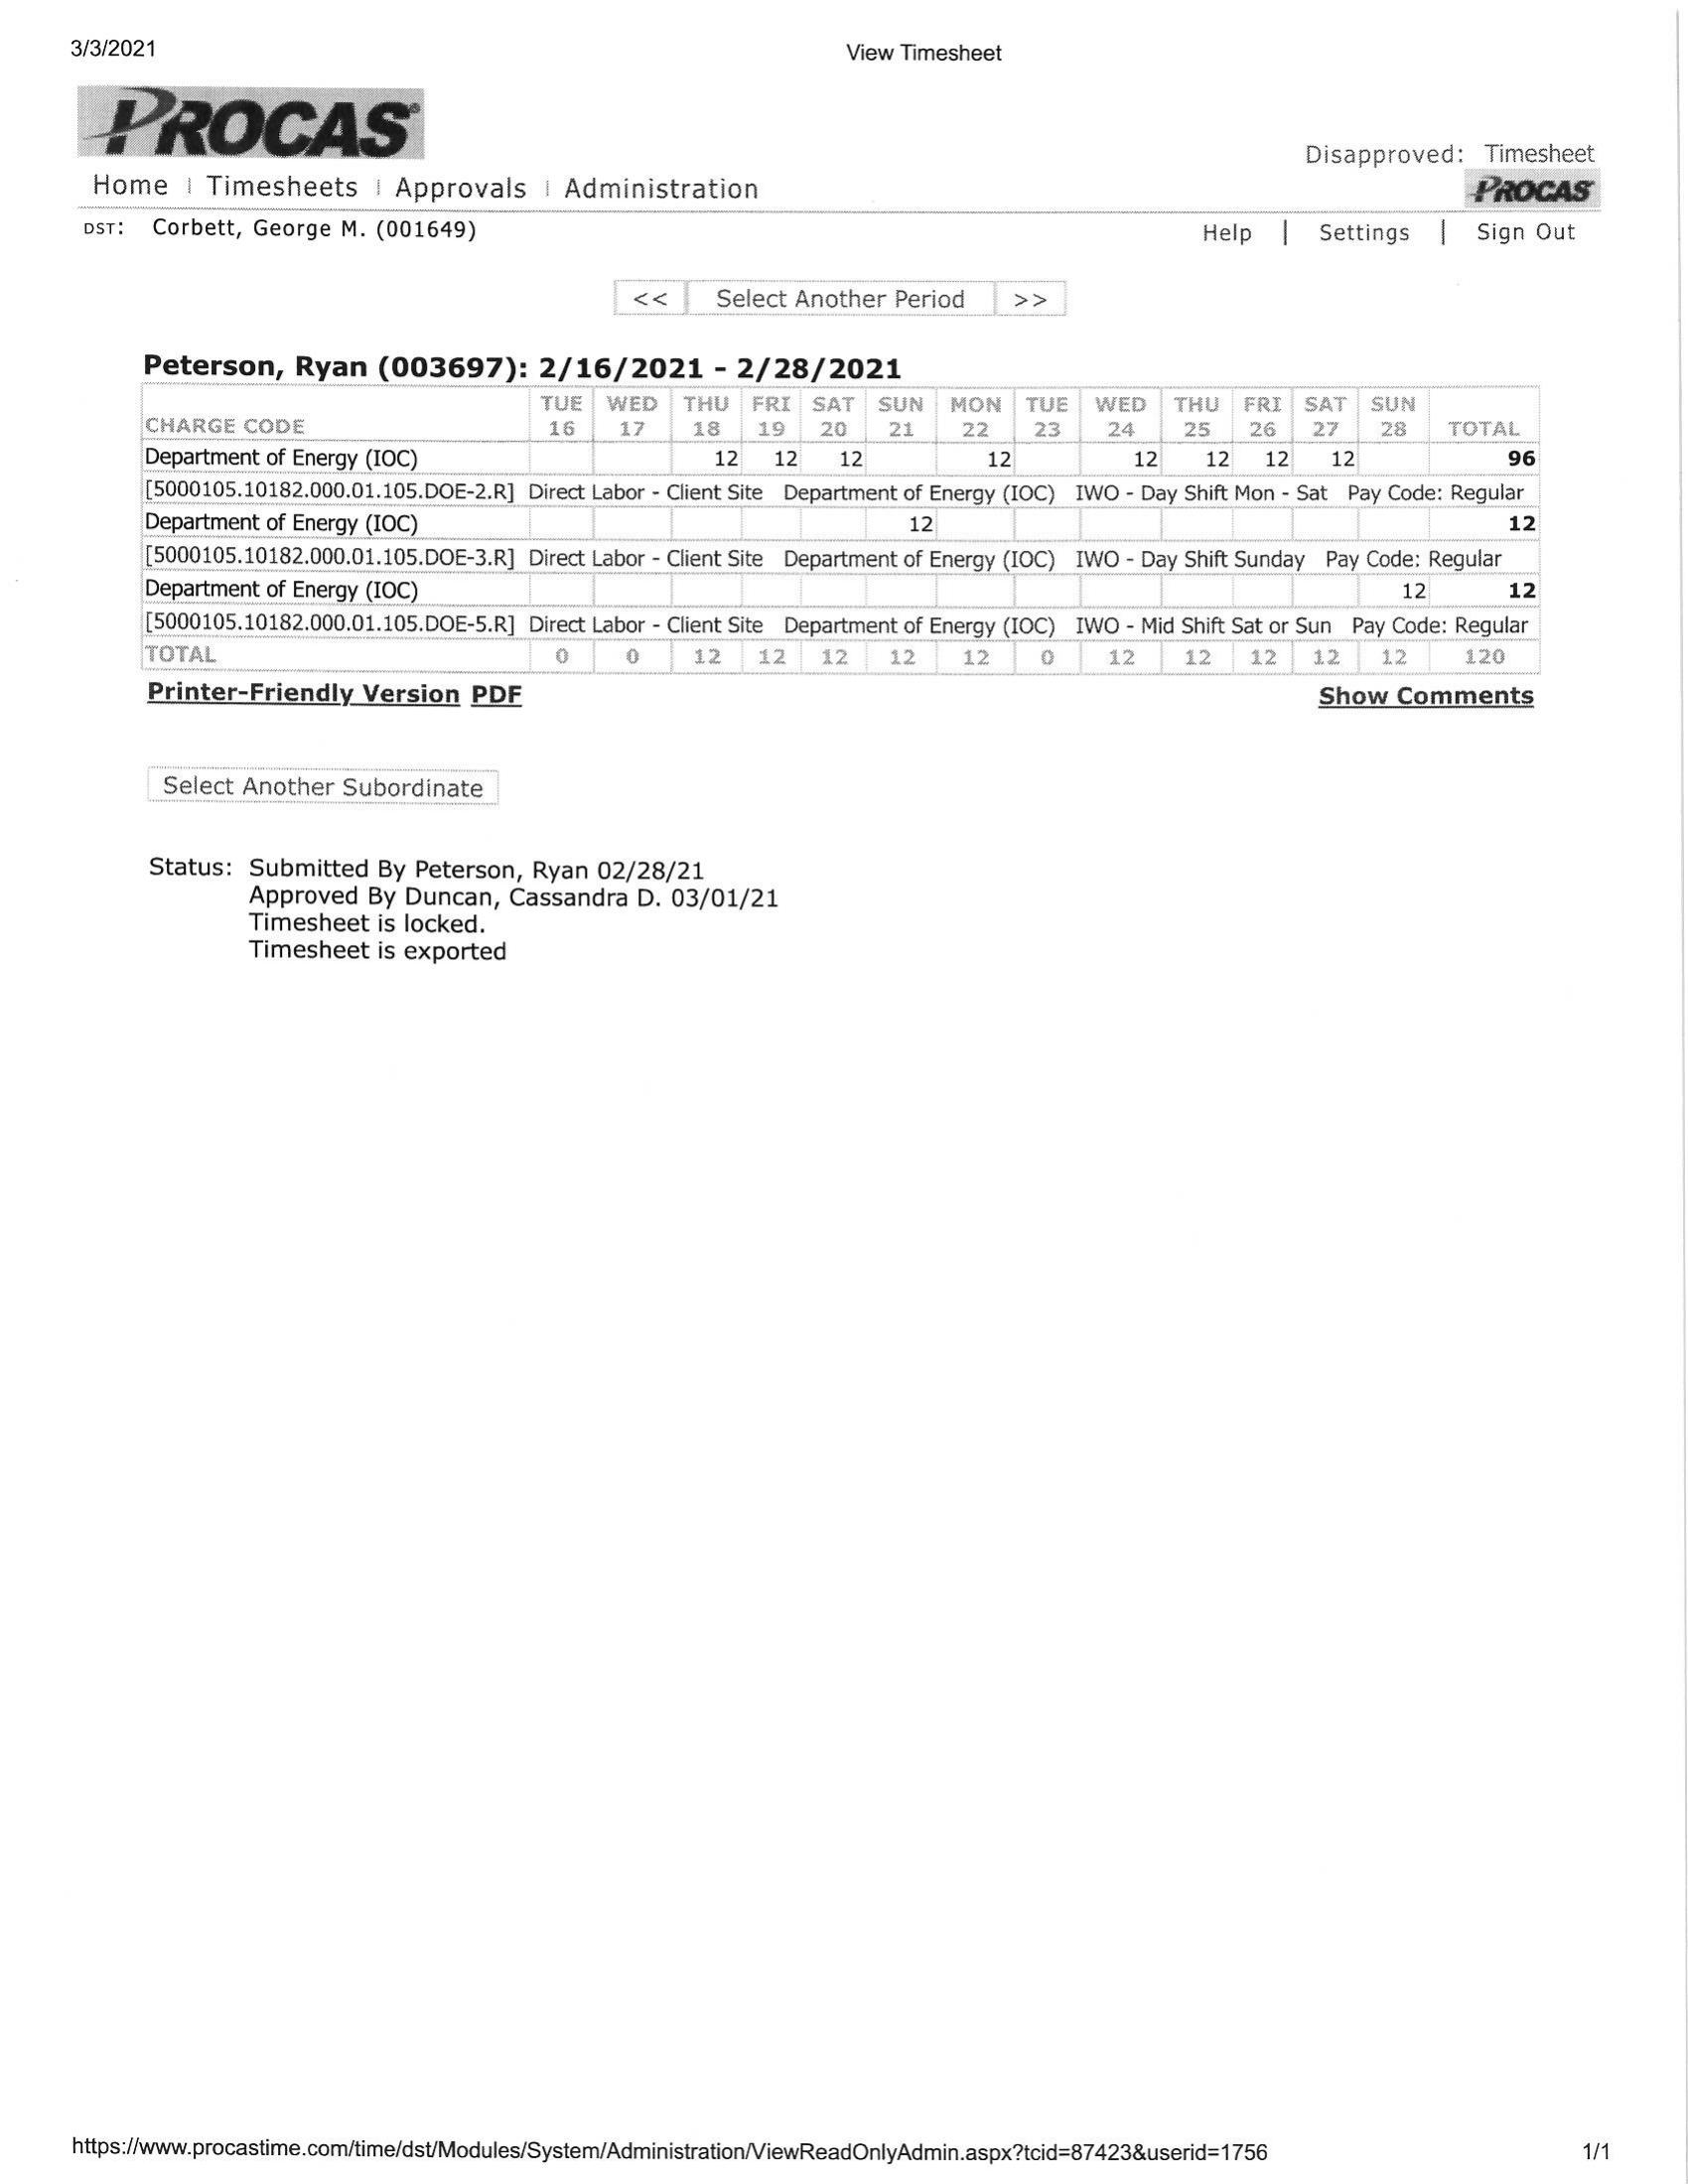table: (140, 374, 1557, 668)
